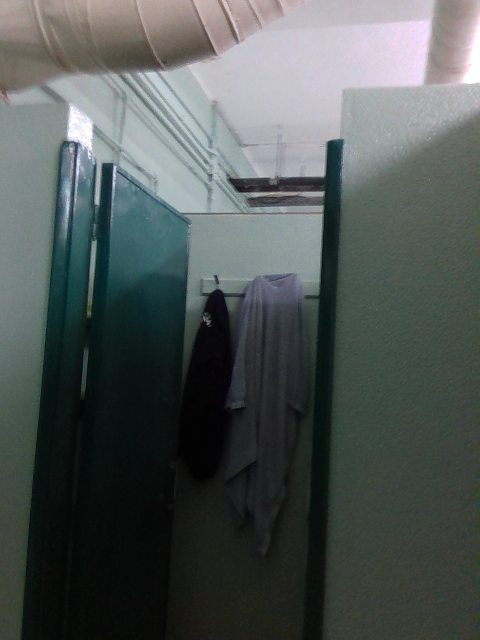open: (20, 144, 194, 639)
